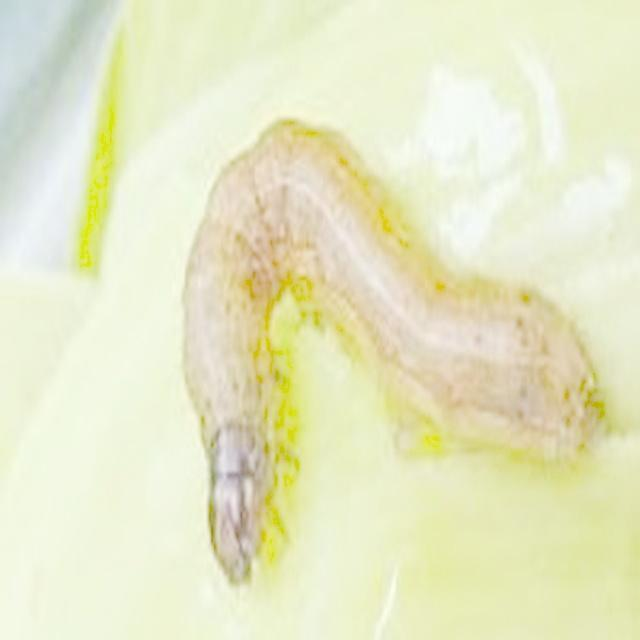gusano_cogollero: (176, 114, 612, 586)
